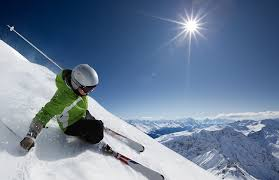skis: (57, 124, 165, 179)
